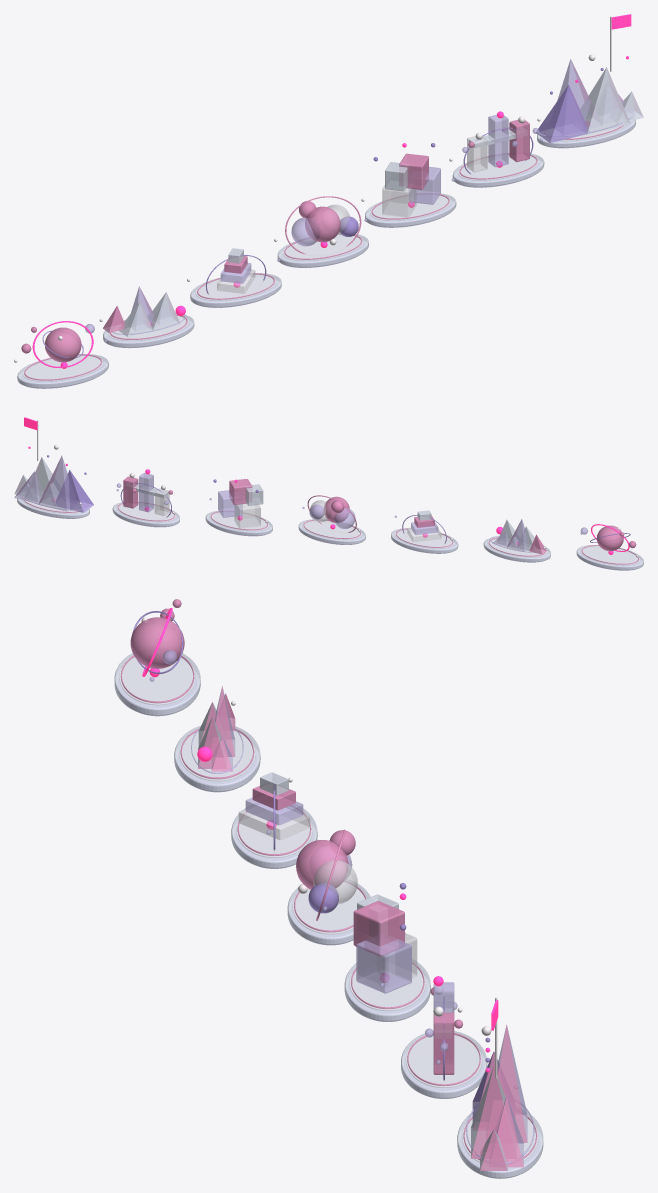
The model's file is builstry-journey.glb.
3 views of the same model, one above another, from view 1: azimuth 30°, elevation 25°; view 2: azimuth 150°, elevation 25°; view 3: azimuth 270°, elevation 25° (orthographic). The views are drawn at different scales.
Visible parts, largest first — view 1: 2018 | platform | floating plinth, 2024 | brighter tomorrow peak | faceted summit 3, 2021 | platform | floating plinth, 2022 | platform | floating plinth, 2023 | platform | floating plinth, 2024 | brighter tomorrow peak | faceted summit 1, 2020 | platform | floating plinth, 2018 | platform | opal top, 2020 | platform | opal top, 2021 | platform | opal top, 2019 | platform | floating plinth, 2023 | platform | opal top (+18 smaller); view 2: 2018 | platform | floating plinth, 2024 | brighter tomorrow peak | faceted summit 2, 2021 | platform | floating plinth, 2024 | brighter tomorrow peak | faceted summit 3, 2024 | brighter tomorrow peak | faceted summit 1, 2023 | platform | floating plinth, 2022 | platform | floating plinth, 2020 | platform | floating plinth, 2021 | platform | opal top, 2018 | platform | opal top, 2022 | platform | opal top, 2020 | platform | opal top (+22 smaller); view 3: 2018 | platform | floating plinth, 2023 | platform | floating plinth, 2019 | platform | floating plinth, 2022 | platform | floating plinth, 2022 | launch cube, 2021 | platform | floating plinth, 2018 | platform | opal top, 2020 | platform | floating plinth, 2023 | platform | opal top, 2024 | brighter tomorrow peak | faceted summit 3, 2022 | rose cube, 2020 | platform | opal top (+17 smaller).
Boxes of the visible parts, left/top/right/bottom form: 2018 | platform | floating plinth: left=17, top=353, right=108, bottom=388; 2024 | brighter tomorrow peak | faceted summit 3: left=580, top=67, right=630, bottom=134; 2021 | platform | floating plinth: left=277, top=234, right=368, bottom=267; 2022 | platform | floating plinth: left=365, top=193, right=456, bottom=227; 2023 | platform | floating plinth: left=452, top=153, right=544, bottom=187; 2024 | brighter tomorrow peak | faceted summit 1: left=536, top=85, right=589, bottom=142; 2020 | platform | floating plinth: left=190, top=273, right=281, bottom=307; 2018 | platform | opal top: left=22, top=355, right=103, bottom=381; 2020 | platform | opal top: left=195, top=274, right=276, bottom=300; 2021 | platform | opal top: left=282, top=234, right=363, bottom=260; 2019 | platform | floating plinth: left=103, top=313, right=194, bottom=347; 2023 | platform | opal top: left=458, top=154, right=538, bottom=180; 2018 | platform | floating plinth: left=576, top=545, right=643, bottom=570; 2024 | brighter tomorrow peak | faceted summit 2: left=38, top=455, right=76, bottom=511; 2021 | platform | floating plinth: left=298, top=519, right=365, bottom=544; 2024 | brighter tomorrow peak | faceted summit 3: left=24, top=457, right=60, bottom=506; 2024 | brighter tomorrow peak | faceted summit 1: left=55, top=470, right=93, bottom=512; 2023 | platform | floating plinth: left=112, top=502, right=179, bottom=526; 2022 | platform | floating plinth: left=205, top=511, right=272, bottom=535; 2020 | platform | floating plinth: left=391, top=528, right=458, bottom=553; 2021 | platform | opal top: left=302, top=520, right=362, bottom=539; 2018 | platform | opal top: left=580, top=546, right=640, bottom=565; 2022 | platform | opal top: left=209, top=512, right=269, bottom=530; 2020 | platform | opal top: left=394, top=529, right=454, bottom=548; 2018 | platform | floating plinth: left=114, top=653, right=200, bottom=715; 2023 | platform | floating plinth: left=401, top=1031, right=487, bottom=1098; 2019 | platform | floating plinth: left=174, top=726, right=260, bottom=791; 2022 | platform | floating plinth: left=344, top=959, right=430, bottom=1021; 2022 | launch cube: left=356, top=934, right=411, bottom=993; 2021 | platform | floating plinth: left=287, top=879, right=370, bottom=944; 2018 | platform | opal top: left=119, top=655, right=195, bottom=705; 2020 | platform | floating plinth: left=231, top=803, right=317, bottom=868; 2023 | platform | opal top: left=405, top=1033, right=482, bottom=1087; 2024 | brighter tomorrow peak | faceted summit 3: left=471, top=1066, right=516, bottom=1158; 2022 | rose cube: left=353, top=901, right=404, bottom=956; 2020 | platform | opal top: left=236, top=811, right=312, bottom=857.
Bounding box in the file's own units: 17.95 × 2.82 × 6.17.
